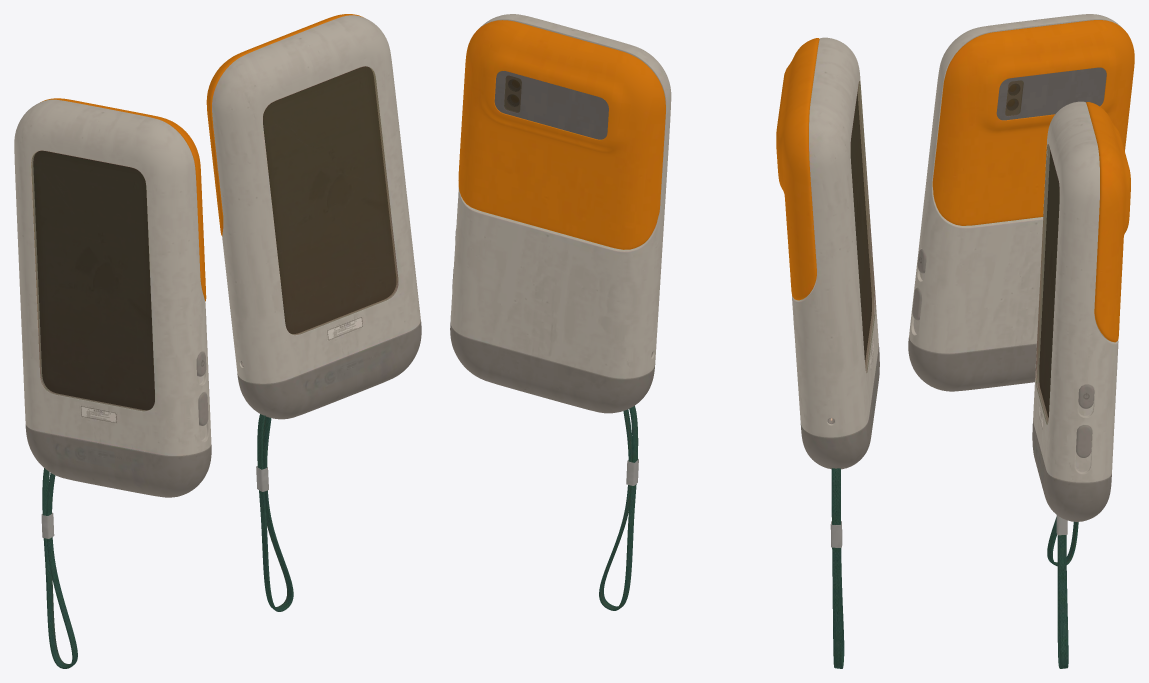
The model's file is sonar-scanner.glb.
3 renders of one model, left to right at view 1: azimuth 30°, elevation 25°; view 2: azimuth 150°, elevation 25°; view 3: azimuth 270°, elevation 25°, orthographic. The views are drawn at different scales.
Visible parts, largest first — view 1: scanner.002_low, scanner.002_low.001, scanner.012_low.001, scanner.012_low, scanner.011_low.001, scanner.011_low, scanner.001_low.001, scanner.001_low, scanner.006_low.001, scanner.006_low, scanner_low, scanner_low.001; view 2: scanner_low, scanner.002_low, scanner.002_low.001, scanner_low.001, scanner.001_low, scanner.009_low, scanner.012_low.001, scanner.011_low.001, scanner.001_low.001, scanner.006_low, scanner.006_low.001; view 3: scanner_low.001, scanner.002_low, scanner.002_low.001, scanner_low, scanner.001_low.001, scanner.009_low.001, scanner.012_low, scanner.011_low, scanner.001_low, scanner.006_low, scanner.007_low.001, scanner.006_low.001 (+2 smaller).
Boxes of the visible parts, x1,y1,x2,y2 form: scanner.002_low: (212, 15, 420, 383); scanner.002_low.001: (14, 99, 211, 455); scanner.012_low.001: (31, 150, 154, 411); scanner.012_low: (263, 66, 398, 334); scanner.011_low.001: (33, 150, 154, 410); scanner.011_low: (263, 66, 396, 333); scanner.001_low.001: (25, 424, 211, 497); scanner.001_low: (237, 320, 421, 419); scanner.006_low.001: (42, 468, 77, 668); scanner.006_low: (257, 414, 293, 611); scanner_low: (206, 14, 363, 236); scanner_low.001: (40, 98, 206, 301); scanner_low: (458, 20, 665, 249); scanner.002_low: (450, 14, 671, 378); scanner.002_low.001: (792, 37, 878, 437); scanner_low.001: (776, 38, 819, 300); scanner.001_low: (450, 322, 655, 413); scanner.009_low: (494, 71, 608, 139); scanner.012_low.001: (850, 81, 875, 372); scanner.011_low.001: (850, 92, 871, 361); scanner.001_low.001: (800, 346, 879, 469); scanner.006_low: (599, 406, 638, 610); scanner.006_low.001: (831, 468, 844, 668); scanner_low.001: (932, 20, 1134, 225); scanner.002_low: (1033, 101, 1118, 482); scanner.002_low.001: (909, 14, 1120, 353); scanner_low: (1086, 102, 1130, 342); scanner.001_low.001: (908, 337, 1036, 391); scanner.009_low.001: (996, 67, 1106, 120); scanner.012_low: (1035, 144, 1059, 424); scanner.011_low: (1039, 150, 1059, 417); scanner.001_low: (1032, 421, 1111, 521); scanner.006_low: (1057, 535, 1068, 668); scanner.007_low.001: (1005, 80, 1023, 115); scanner.006_low.001: (1047, 517, 1078, 566).
Size of the model in its own units: 0.2449 by 0.3385 by 0.123.
Materials: 2 (2 with a texture image).
